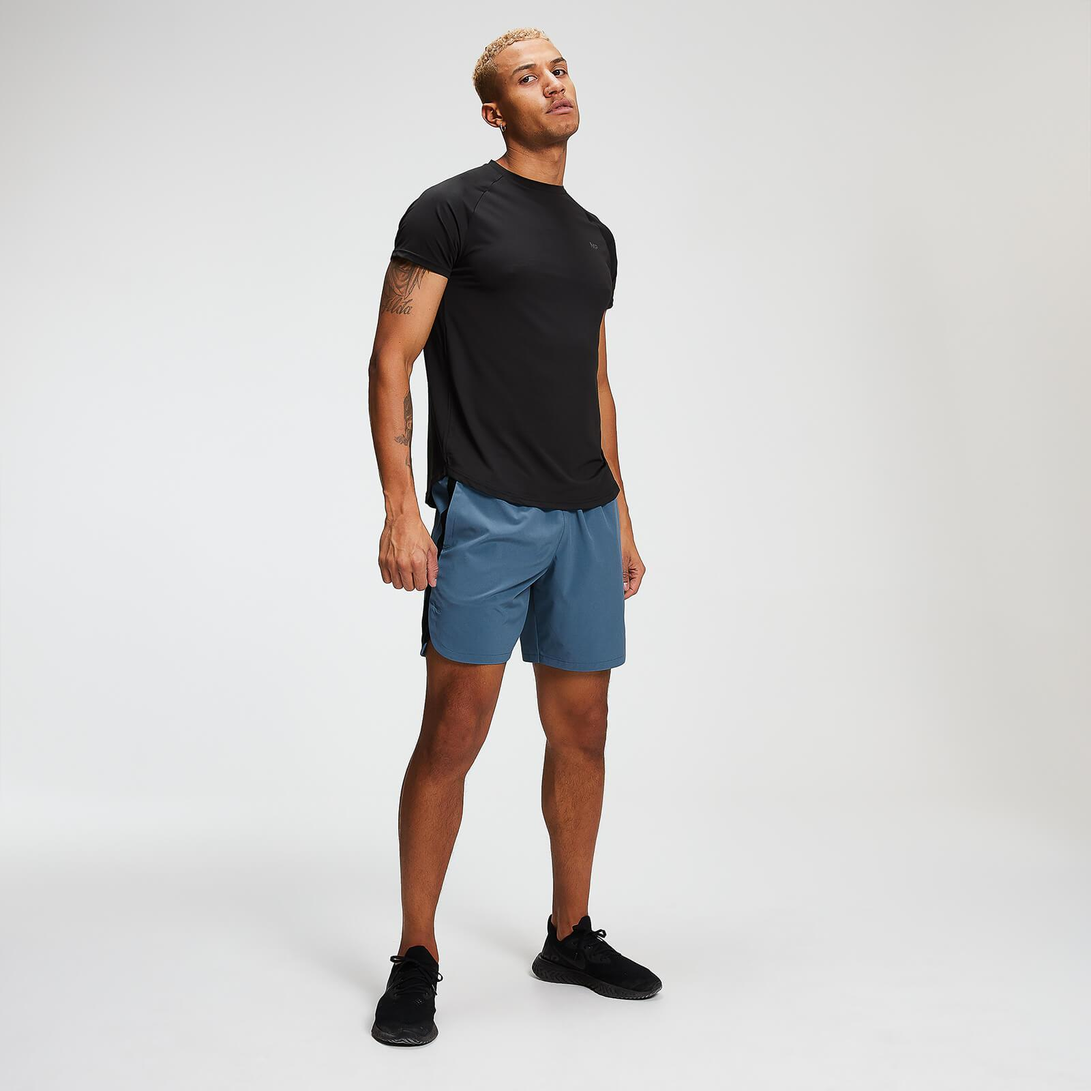Shorts: (407, 473, 632, 672)
short sleeve shirt: (382, 152, 626, 510)
